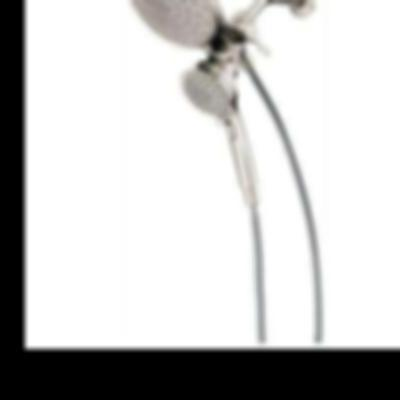Ducha: (129, 0, 344, 347)
